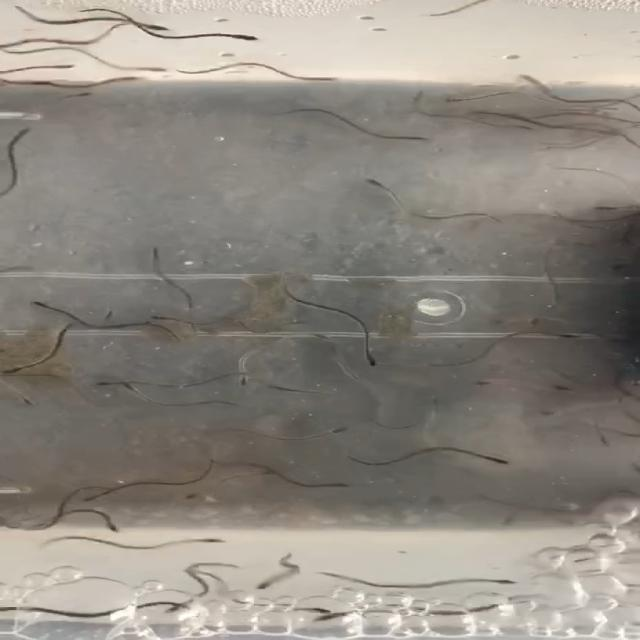active_glass_eel: (392, 182, 457, 214), (36, 96, 95, 125), (556, 108, 608, 136), (56, 599, 116, 621), (363, 607, 412, 632), (521, 292, 572, 316), (241, 53, 290, 76), (25, 342, 69, 366), (528, 404, 570, 429), (559, 78, 599, 103), (340, 379, 388, 399), (0, 381, 45, 402), (462, 448, 501, 472), (331, 114, 372, 136), (94, 488, 136, 509), (32, 78, 72, 100), (453, 110, 487, 134), (200, 26, 245, 44), (585, 404, 616, 430), (297, 601, 344, 618), (344, 353, 394, 368), (484, 310, 520, 330), (139, 537, 179, 555), (296, 578, 341, 594), (240, 573, 274, 594), (196, 530, 233, 549), (147, 305, 177, 328), (138, 60, 176, 78), (74, 48, 122, 62), (475, 373, 507, 394), (342, 402, 375, 422), (427, 580, 468, 596), (59, 24, 95, 41), (182, 487, 220, 503), (12, 54, 48, 70), (145, 525, 181, 541), (449, 86, 478, 105), (309, 471, 333, 492), (124, 380, 154, 396), (535, 330, 569, 344), (415, 432, 443, 449), (30, 298, 62, 311), (230, 369, 252, 387), (166, 396, 194, 410), (290, 434, 316, 448)
